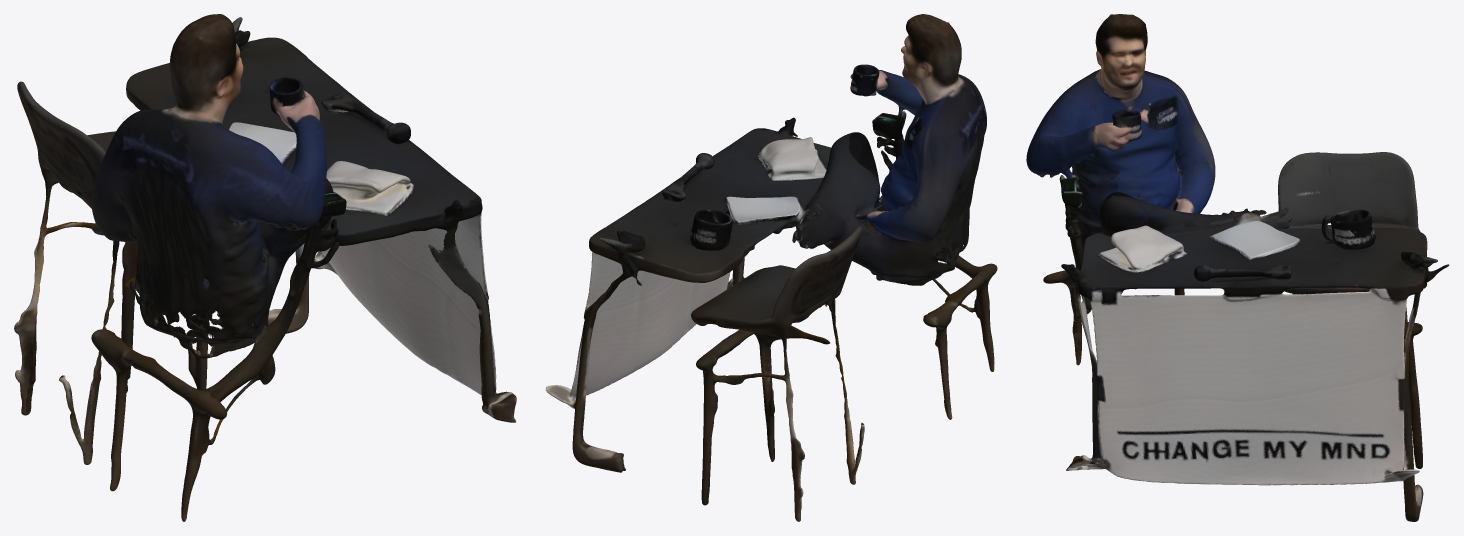
File: tableman.fbx
The picture shows the model from 3 angles, left to right: view 1: azimuth 30°, elevation 25°; view 2: azimuth 150°, elevation 25°; view 3: azimuth 270°, elevation 25°; orthographic projection. The views are drawn at different scales.
Parts seen in each view (by area): view 1: tripo_node_cd9a290f-bdb0-4948-8ffd-8d7f5435654e; view 2: tripo_node_cd9a290f-bdb0-4948-8ffd-8d7f5435654e; view 3: tripo_node_cd9a290f-bdb0-4948-8ffd-8d7f5435654e.
Boxes of the visible parts, bbox=[...] form: tripo_node_cd9a290f-bdb0-4948-8ffd-8d7f5435654e: bbox=[14, 14, 516, 521]; tripo_node_cd9a290f-bdb0-4948-8ffd-8d7f5435654e: bbox=[545, 14, 997, 521]; tripo_node_cd9a290f-bdb0-4948-8ffd-8d7f5435654e: bbox=[1026, 14, 1449, 521].
Bounding box in the file's own units: 77.19 × 100 × 92.54.
1 material, 1 textured.
